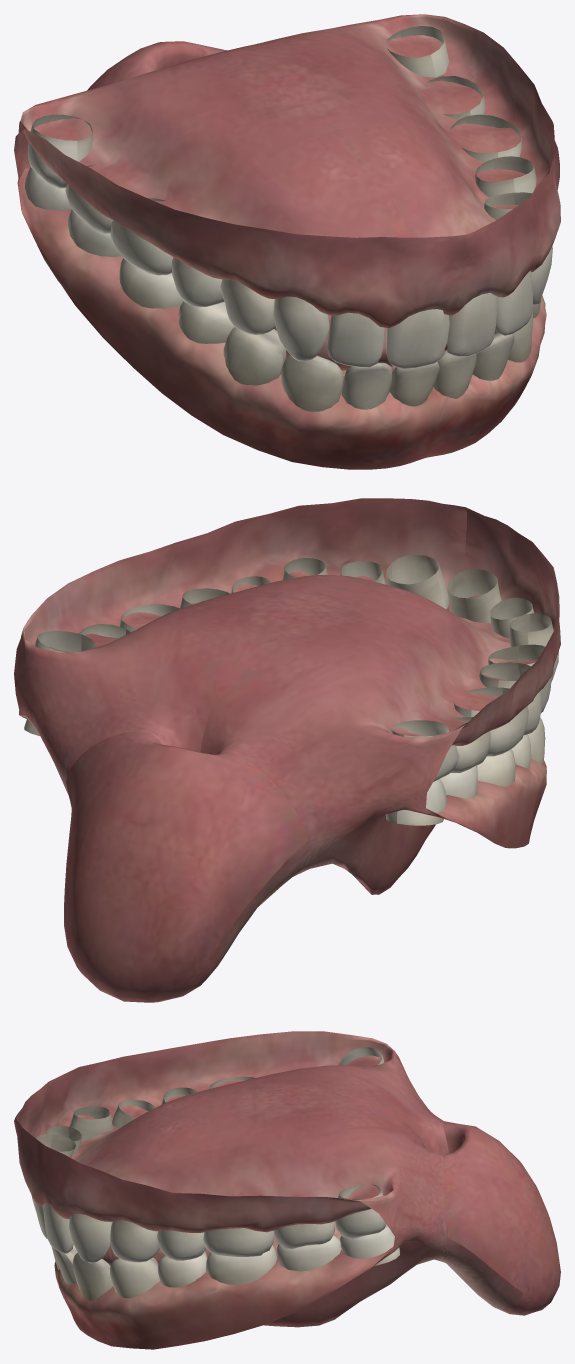
The model's file is mouth.glb.
3 views of the same model, one above another, from view 1: azimuth 30°, elevation 25°; view 2: azimuth 150°, elevation 25°; view 3: azimuth 270°, elevation 25° (orthographic). The views are drawn at different scales.
Visible parts, largest first — view 1: Gums_GumsMaterial_0, Teeth_TeethMaterial_0; view 2: Gums_GumsMaterial_0, Teeth_TeethMaterial_0; view 3: Gums_GumsMaterial_0, Teeth_TeethMaterial_0.
Boxes of the visible parts, left/top/right/bottom form: Gums_GumsMaterial_0: left=14, top=14, right=560, bottom=469; Teeth_TeethMaterial_0: left=25, top=26, right=552, bottom=411; Gums_GumsMaterial_0: left=14, top=498, right=560, bottom=1002; Teeth_TeethMaterial_0: left=24, top=554, right=558, bottom=825; Gums_GumsMaterial_0: left=14, top=1031, right=560, bottom=1349; Teeth_TeethMaterial_0: left=31, top=1047, right=399, bottom=1300.
Size of the model in its own units: 0.4296 by 0.2578 by 0.6.
Materials: 2 (2 with a texture image).
